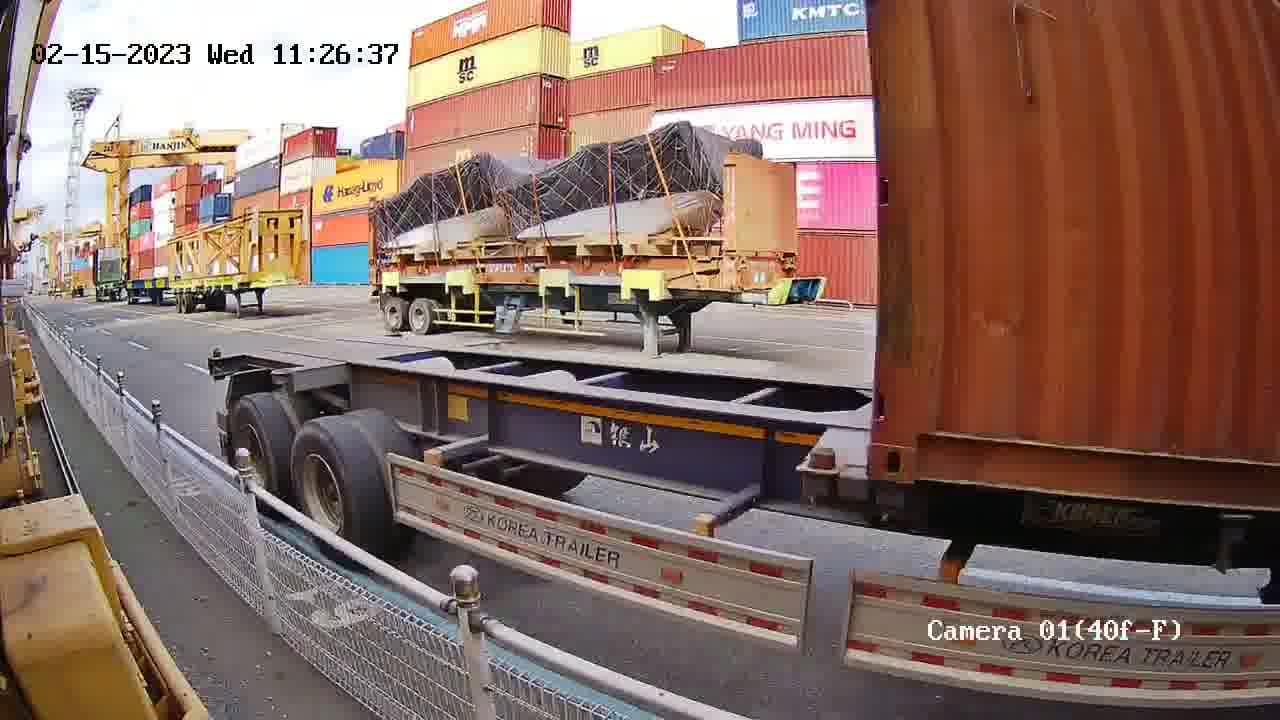Cone: (868, 479, 915, 523)
Hole_L: (870, 385, 962, 481)
Tire: (287, 426, 362, 542), (227, 393, 280, 490)
